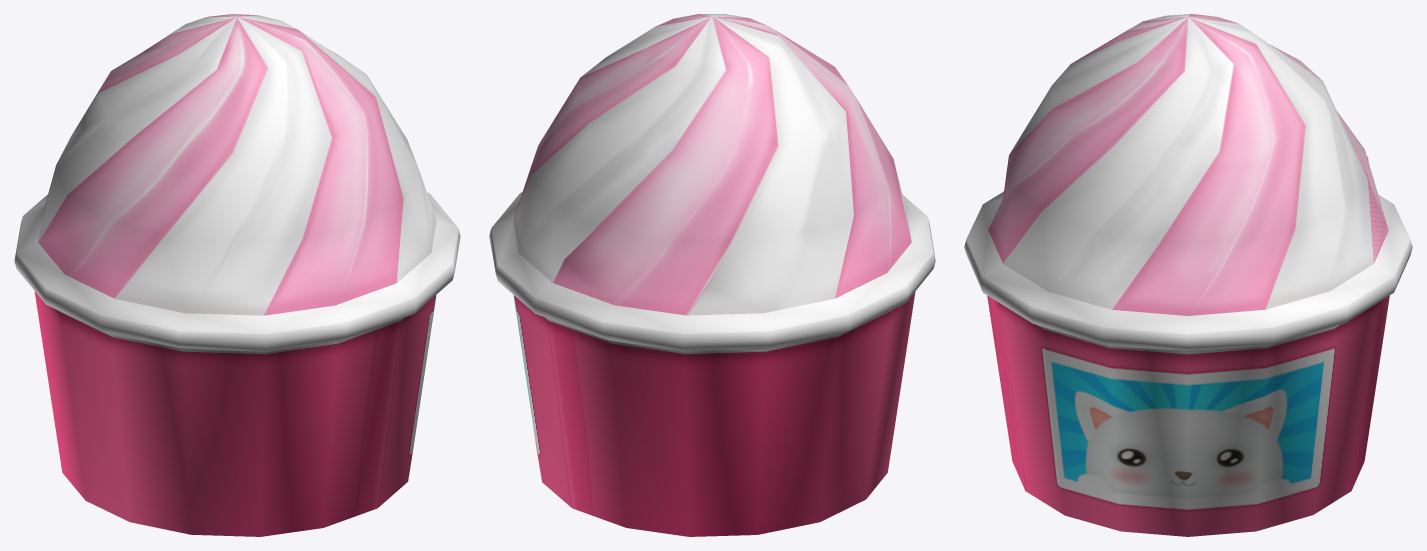
Rendered from IceCream.FBX.
3 views of the same model, side by side, from view 1: azimuth 30°, elevation 25°; view 2: azimuth 150°, elevation 25°; view 3: azimuth 270°, elevation 25° (orthographic).
Parts seen in each view (by area): view 1: IceCream; view 2: IceCream; view 3: IceCream.
Part boxes in pixels (left/top/right/bottom): IceCream: left=14, top=14, right=460, bottom=536; IceCream: left=489, top=14, right=935, bottom=536; IceCream: left=964, top=14, right=1412, bottom=536.
Bounding box in the file's own units: 21.7 × 23.8 × 21.7.
